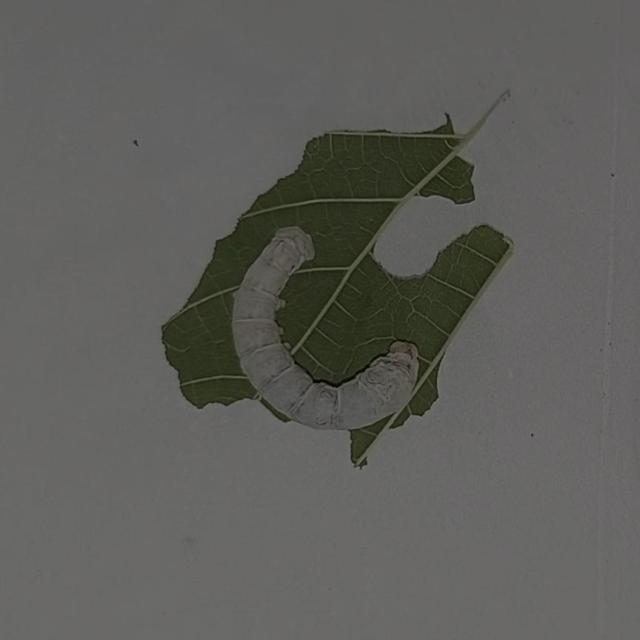Healthy: (221, 222, 433, 437)
